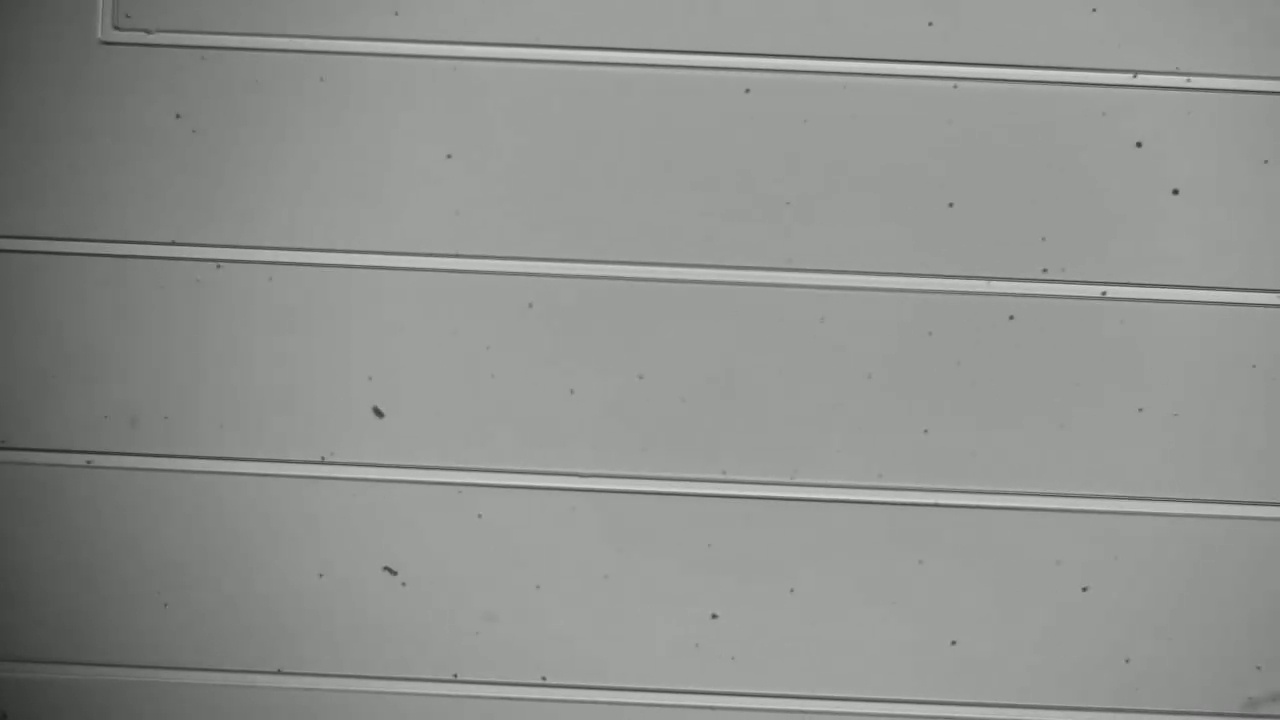edge_bite: (135, 20, 165, 58)
